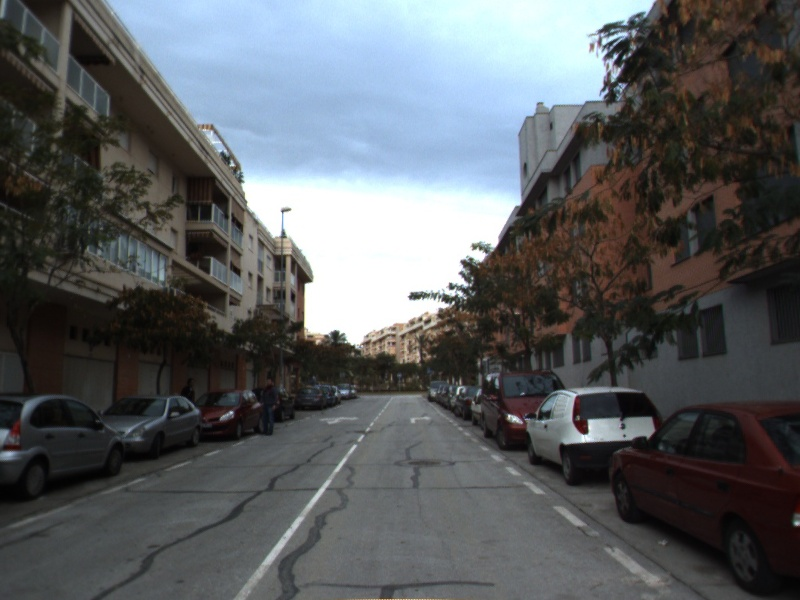RIGHT: (408, 414, 435, 425)
